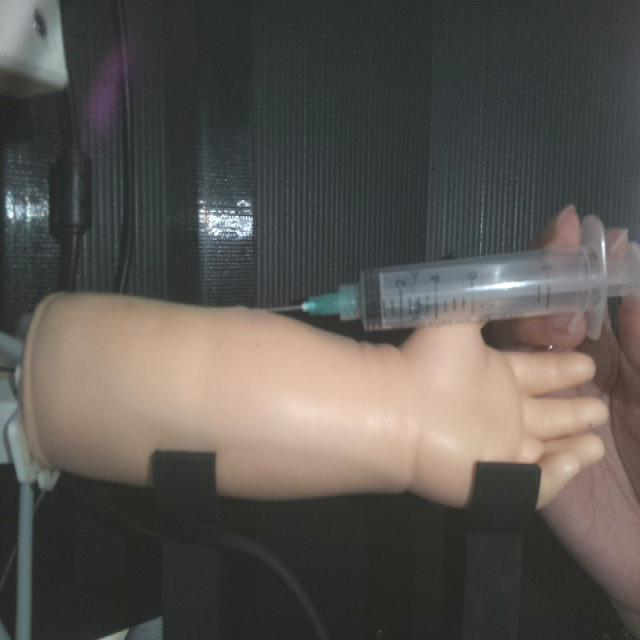Below 15 degrees: (262, 214, 636, 334)
